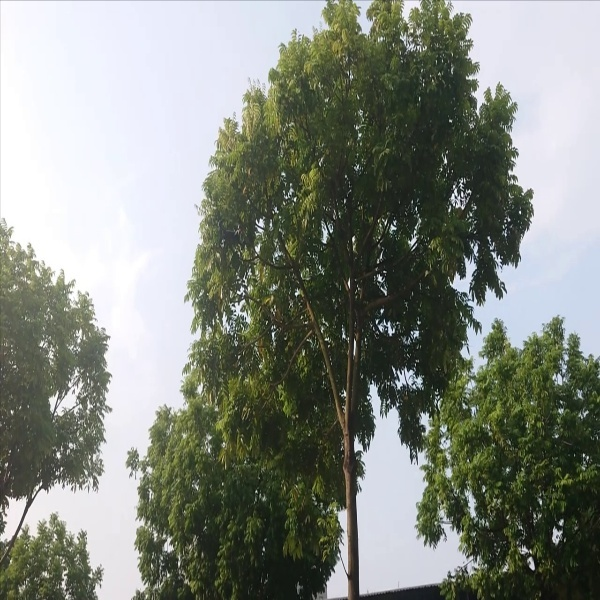drone: (213, 216, 246, 250)
